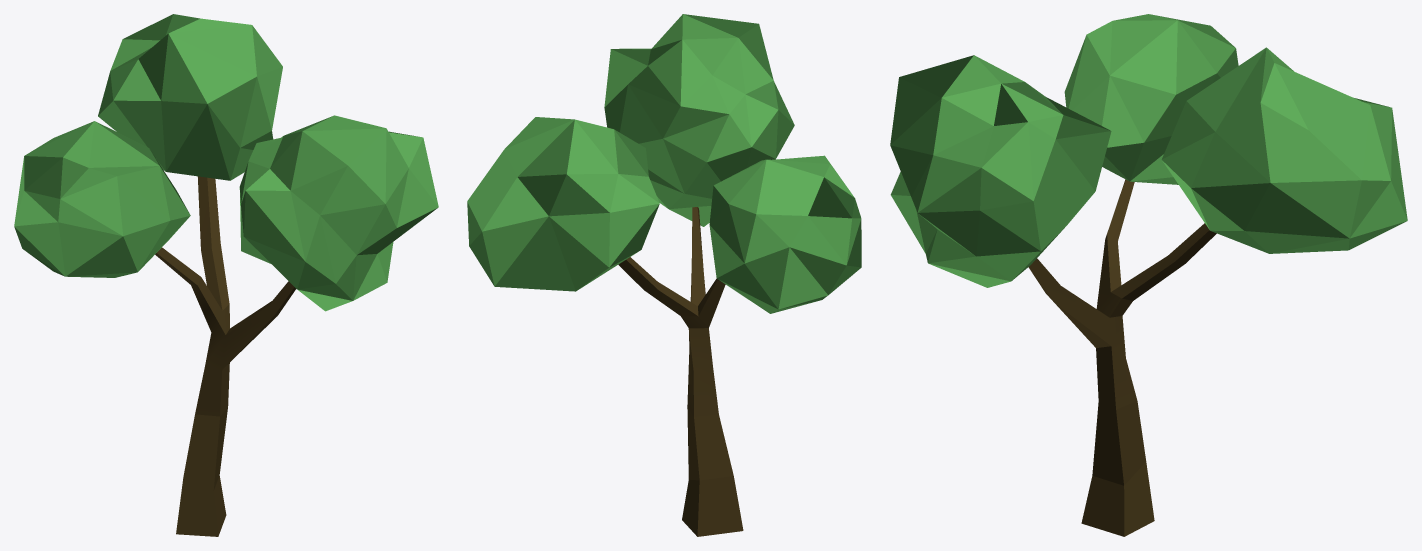
The model's file is Tree_m.fbx.
3 renders of one model, left to right at view 1: azimuth 30°, elevation 25°; view 2: azimuth 150°, elevation 25°; view 3: azimuth 270°, elevation 25°, orthographic. The views are drawn at different scales.
Parts seen in each view (by area): view 1: Tree_m_leaf, Tree_m_log; view 2: Tree_m_leaf, Tree_m_log; view 3: Tree_m_leaf, Tree_m_log.
Part boxes in pixels (x1=…): Tree_m_leaf: x1=14, y1=14, x2=438, y2=311; Tree_m_log: x1=155, y1=176, x2=295, y2=536; Tree_m_leaf: x1=467, y1=14, x2=861, y2=313; Tree_m_log: x1=618, y1=207, x2=743, y2=536; Tree_m_leaf: x1=890, y1=14, x2=1407, y2=287; Tree_m_log: x1=1028, y1=179, x2=1216, y2=536.
Bounding box in the file's own units: 7.24 × 9.44 × 8.89.
